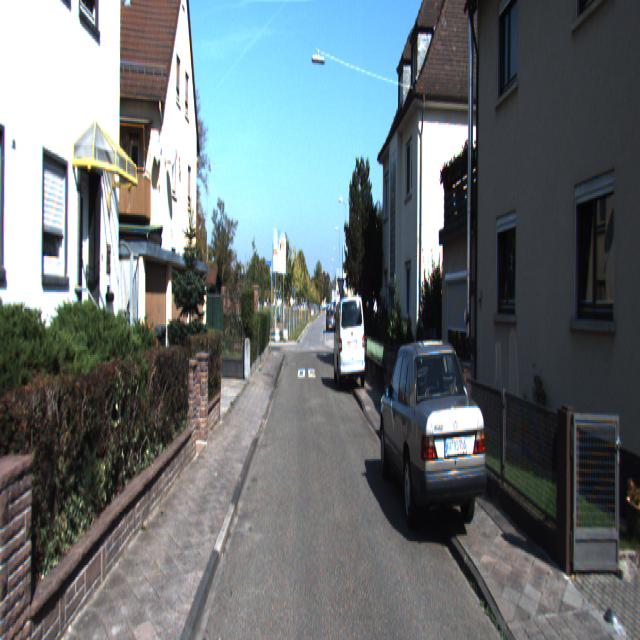Car: (378, 330, 490, 564), (334, 289, 367, 392)
